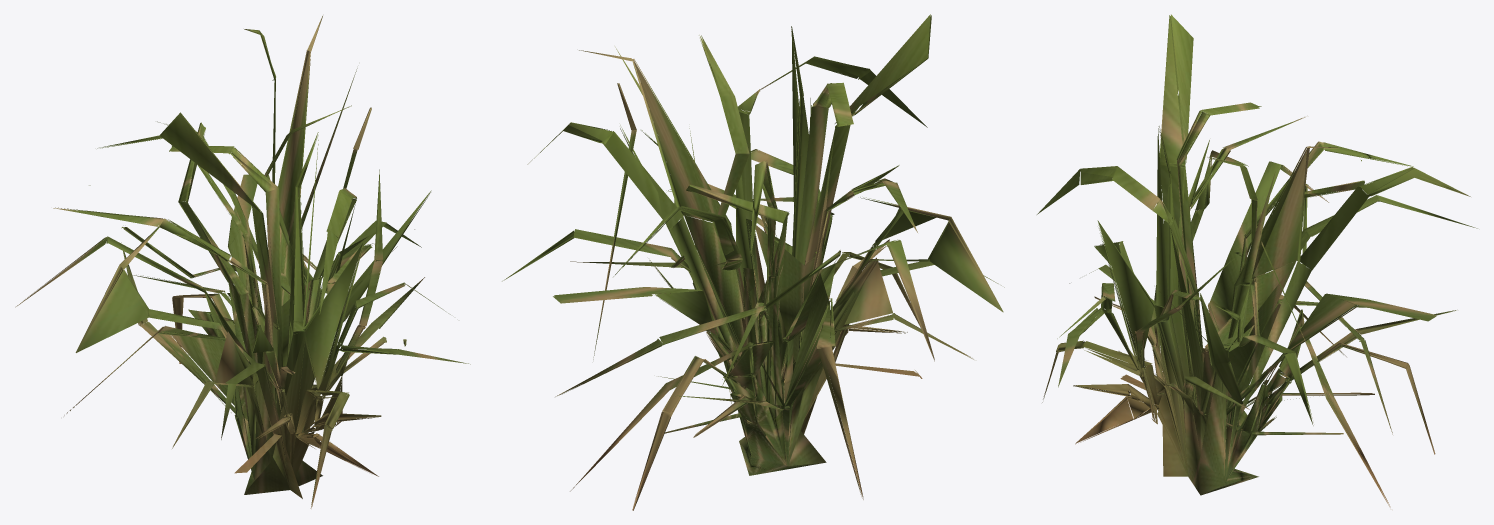
File: kf-sedge.glb
3 views of the same model, side by side, from view 1: azimuth 30°, elevation 25°; view 2: azimuth 150°, elevation 25°; view 3: azimuth 270°, elevation 25° (orthographic). The views are drawn at different scales.
Visible parts, largest first — view 1: Supplied kf-sedge; view 2: Supplied kf-sedge; view 3: Supplied kf-sedge.
Boxes of the visible parts, x1,y1,x2,y2 form: Supplied kf-sedge: (15,16,470,508); Supplied kf-sedge: (502,14,1004,510); Supplied kf-sedge: (1037,14,1477,507).
Bounding box in the file's own units: 1 × 0.9851 × 0.9764.
1 material, 1 textured.
